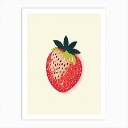strawberry: (47, 37, 82, 93)
